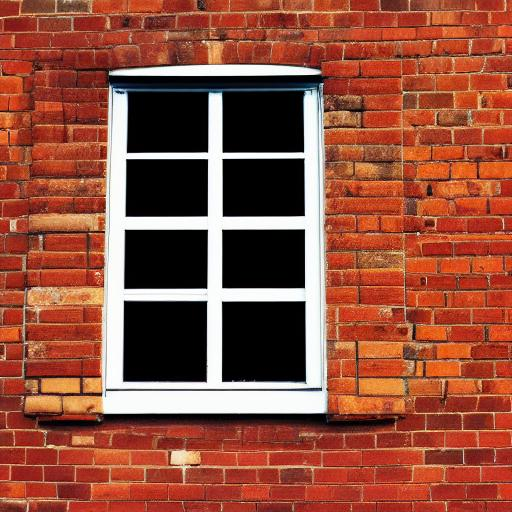Window: (27, 41, 407, 418)
